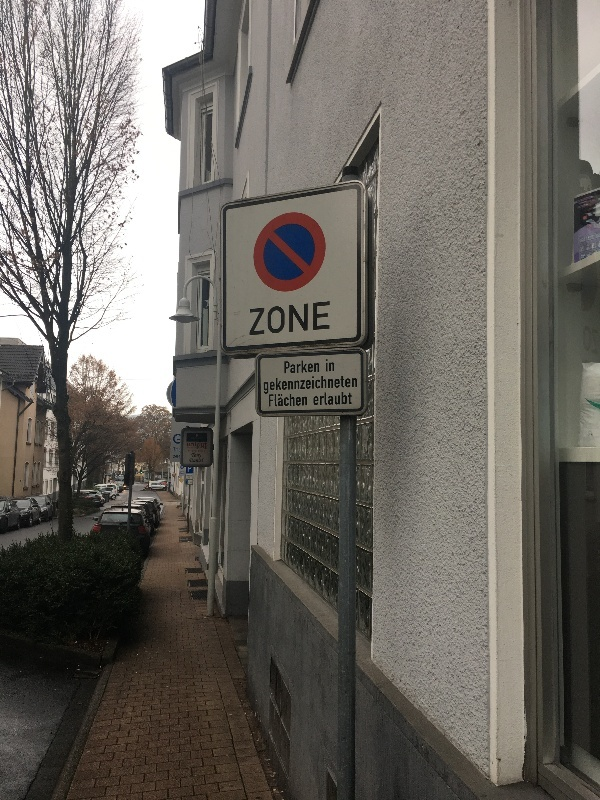text: (257, 301, 272, 336), (273, 301, 288, 336), (289, 301, 304, 336), (305, 301, 320, 336), (273, 374, 288, 395), (289, 374, 304, 395), (305, 374, 320, 395), (321, 374, 336, 395), (337, 374, 352, 395), (321, 301, 330, 336), (321, 392, 336, 406), (337, 392, 352, 406), (289, 360, 304, 374), (305, 360, 320, 374), (250, 301, 256, 336), (273, 394, 288, 407), (289, 394, 304, 407), (264, 374, 272, 395), (326, 359, 336, 372), (193, 442, 207, 450), (353, 374, 358, 395), (314, 392, 320, 406), (193, 458, 205, 463), (193, 453, 202, 459), (285, 360, 288, 374), (187, 442, 192, 450), (269, 394, 272, 407), (305, 394, 308, 407), (188, 467, 192, 474), (177, 447, 181, 453), (173, 447, 176, 453), (173, 455, 176, 459), (177, 455, 180, 459), (190, 458, 192, 463)
